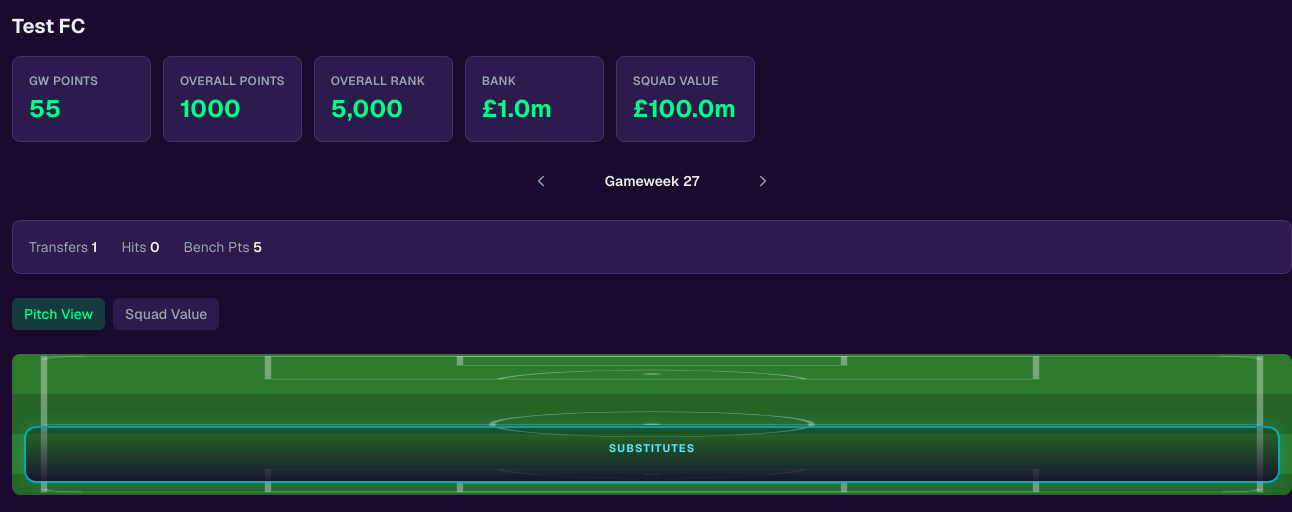
Test: TeamPage pending squad › shows 'GW28 Pending' label when navigated to next GW
The width and height of the screenshot is (1292, 512).
Click the button named "next gameweek". click: (763,181)
box: 748,166 -> 778,196
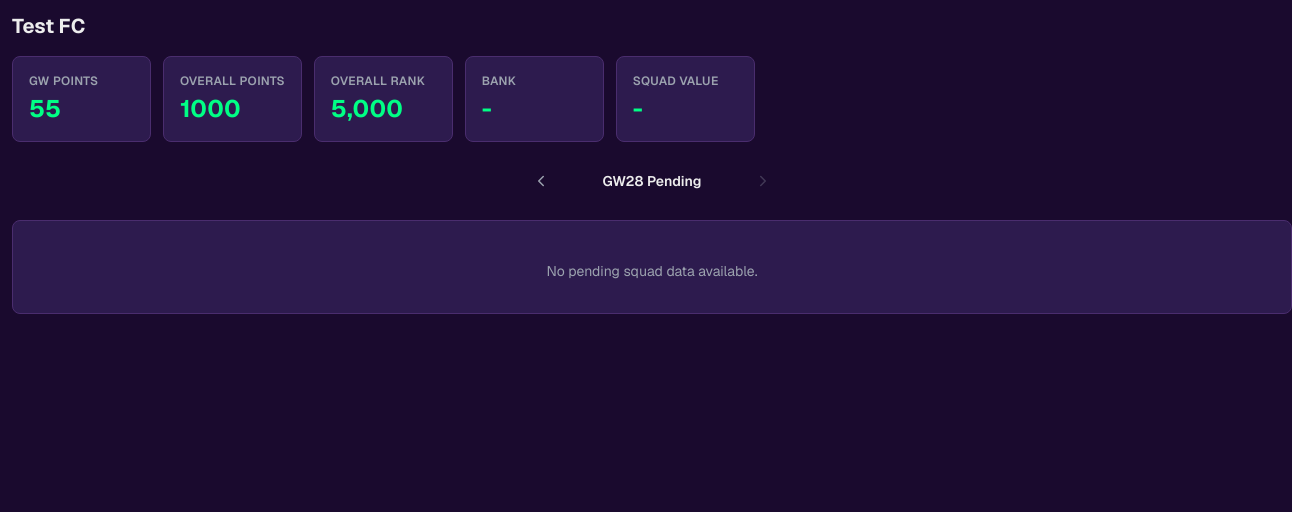
Now the text "GW28 Pending" is shown, box 603,172 -> 701,190
